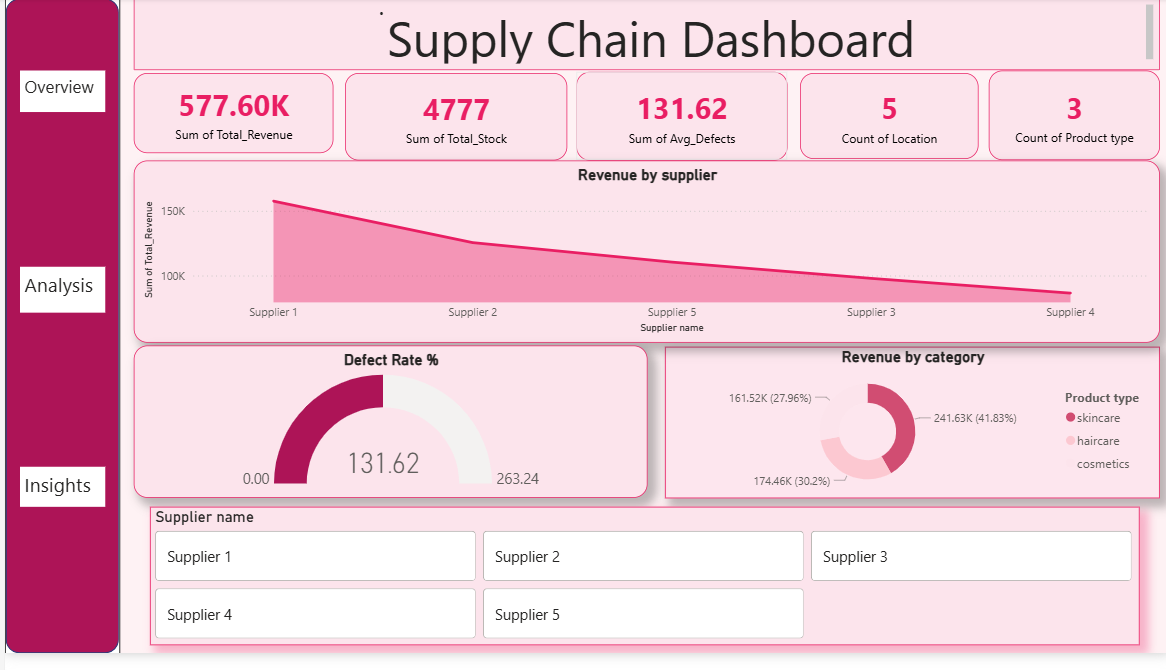

What the dashboard file says about the page in this screenshot:
{"tool":"powerbi","page":{"name":"Page 1","canvas":[1280,720],"ordinal":0},"visuals":[{"type":"card","fields":{"Values":["Sum(final_summary_sql.Total_Revenue)"]},"box":[141.3,82.3,219.6,87.8],"z":5},{"type":"card","fields":{"Values":["Sum(final_summary_sql.Total_Stock)"]},"box":[373.2,82.3,244.3,96.1],"z":6},{"type":"card","fields":{"Values":["Sum(final_summary_sql.Avg_Defects)"]},"box":[627.1,81,231.9,97.4],"z":7},{"type":"card","fields":{"Values":["Count(final_summary_sql.Product type)"]},"box":[1079.9,79.6,188,98.8],"z":8},{"type":"card","fields":{"Values":["Count(final_summary_sql.Location)"]},"box":[872.7,82.3,196.2,94.7],"z":9},{"type":"donutChart","title":"Revenue by category ","fields":{"Category":["final_summary_sql.Product type"],"Y":["Sum(final_summary_sql.Total_Revenue)"]},"box":[724.5,382.8,543.4,166],"z":10},{"type":"textbox","box":[141.3,0,1126.6,79.6],"z":11},{"type":"areaChart","title":"Revenue by supplier","fields":{"Category":["final_summary_sql.Supplier name"],"Y":["Sum(final_summary_sql.Total_Revenue)"]},"box":[141.3,178.4,1126.6,200.3],"z":13},{"type":"shape","box":[0,0,126.2,720.4],"z":14},{"type":"textbox","box":[16.5,79.6,93.3,45.3],"z":15},{"type":"gauge","title":"Defect Rate %","fields":{"Y":["Sum(final_summary_sql.Avg_Defects)"]},"box":[141.3,381.5,564,167.4],"z":16},{"type":"advancedSlicerVisual","fields":{"Values":["final_summary_sql.Supplier name"]},"box":[159.2,558.5,1086.8,152.3],"z":17},{"type":"textbox","box":[16.5,295,93.3,50.8],"z":18},{"type":"textbox","box":[16.5,514.6,93.3,43.9],"z":19}]}

Visuals, with their boxes in screenshot pixels (x1, y1, x2, y2):
card - Sum(final_summary_sql.Total_Revenue): box(132, 65, 336, 146)
card - Sum(final_summary_sql.Total_Stock): box(348, 65, 575, 154)
card - Sum(final_summary_sql.Avg_Defects): box(584, 63, 800, 154)
card - Count(final_summary_sql.Product type): box(1006, 62, 1165, 154)
card - Count(final_summary_sql.Location): box(813, 65, 996, 153)
"Revenue by category " donutChart: box(675, 344, 1165, 499)
textbox: box(132, 0, 1165, 62)
"Revenue by supplier" areaChart: box(132, 154, 1165, 341)
shape: box(0, 0, 118, 659)
textbox: box(15, 62, 102, 104)
"Defect Rate %" gauge: box(132, 343, 657, 499)
advancedSlicerVisual - final_summary_sql.Supplier name: box(148, 508, 1160, 650)
textbox: box(15, 263, 102, 310)
textbox: box(15, 467, 102, 508)
